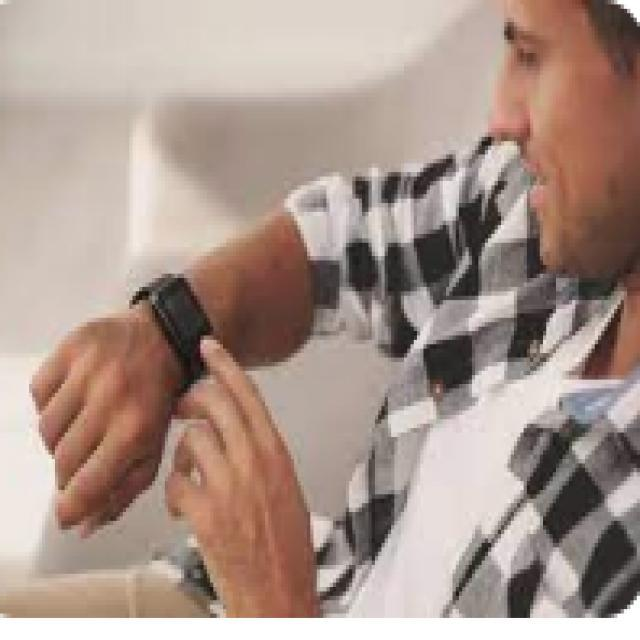Watch: (132, 270, 215, 374)
